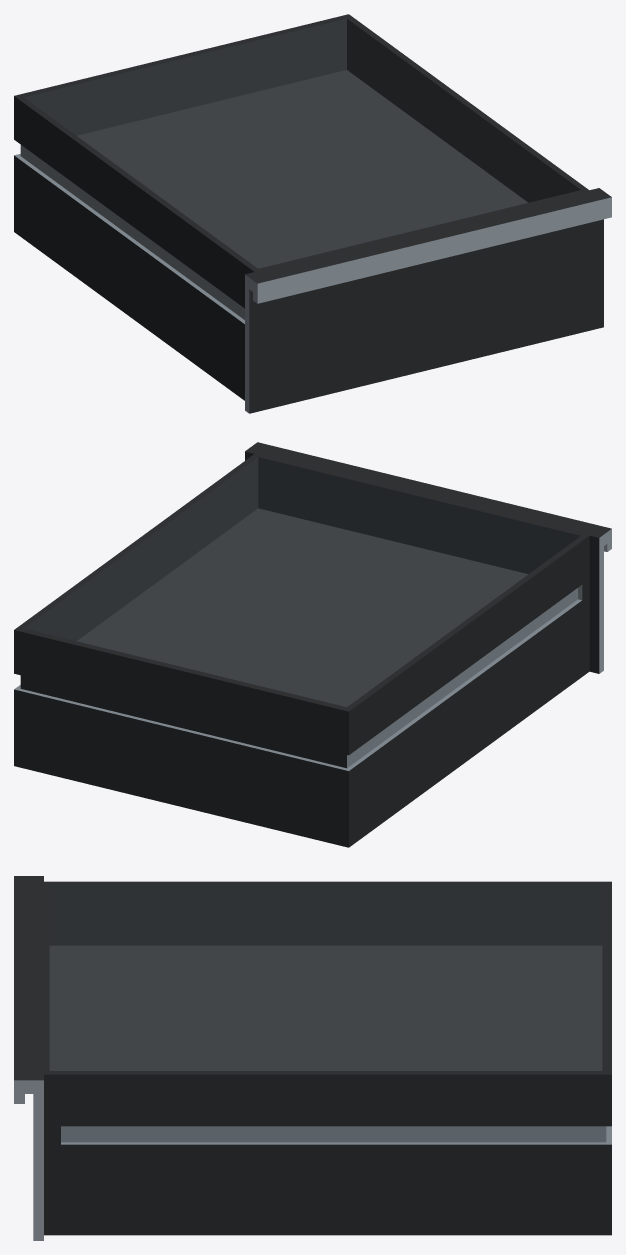
File: SM_Prop_WorkTable_Draw_01.fbx
The picture shows the model from 3 angles, top to bottom: view 1: azimuth 30°, elevation 25°; view 2: azimuth 150°, elevation 25°; view 3: azimuth 270°, elevation 25°; orthographic projection. The views are drawn at different scales.
Parts seen in each view (by area): view 1: SM_Prop_WorkTable_Draw_01; view 2: SM_Prop_WorkTable_Draw_01; view 3: SM_Prop_WorkTable_Draw_01.
Part boxes in pixels (<box>): SM_Prop_WorkTable_Draw_01: <box>14,14,611,413</box>; SM_Prop_WorkTable_Draw_01: <box>14,442,611,847</box>; SM_Prop_WorkTable_Draw_01: <box>14,876,611,1240</box>.
Size of the model in its own units: 53.79 by 19.74 by 66.58.
